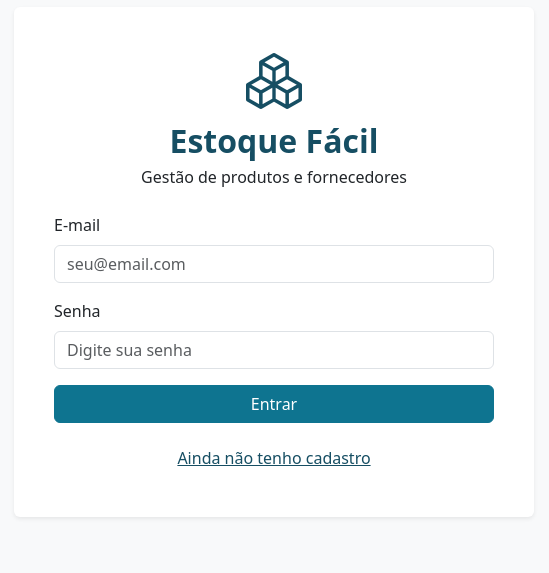
Test: App › exibe erro ao tentar logar com credenciais inválidas
Type "usuario-invalido@email.com" into the field labelled "E-mail".
click(274, 264); type("usuario-invalido@email.com")  # box [54,245,494,283]
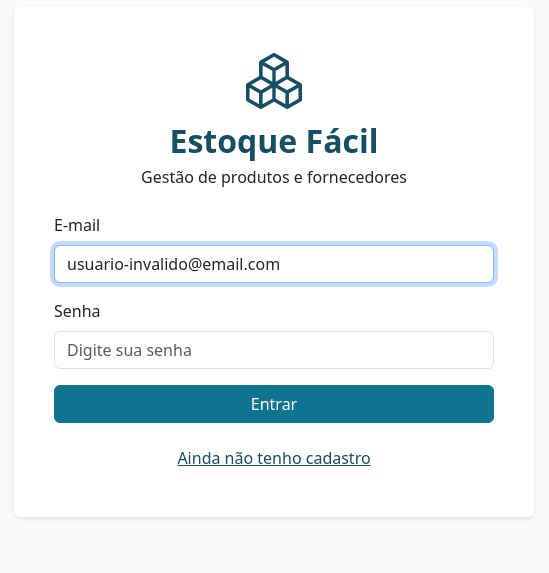
Type "senha-incorreta" into the password field labelled "Senha".
click(274, 350); type("senha-incorreta")  # box [54,331,494,369]
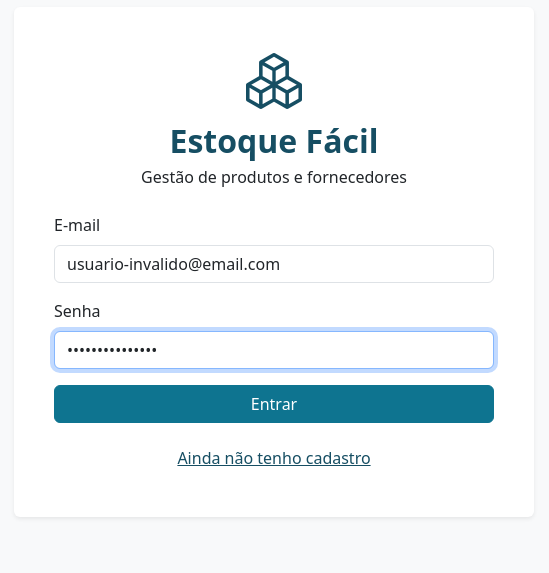
Click the button "Entrar".
click(274, 404)  # box [54,385,494,423]
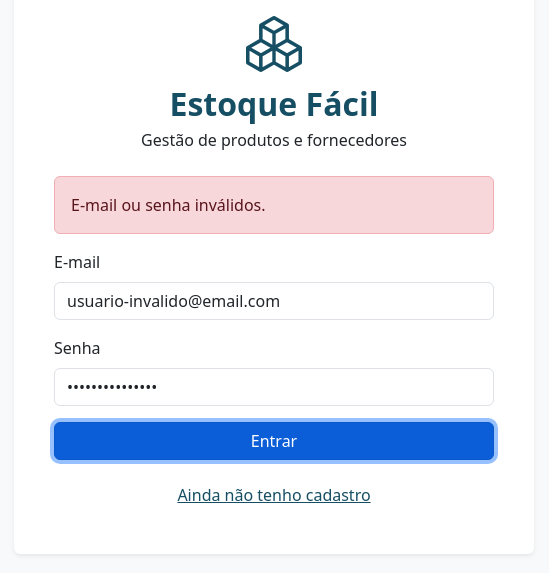
Result: the message reads "E-mail ou senha inválidos." at [71,194,266,216]
